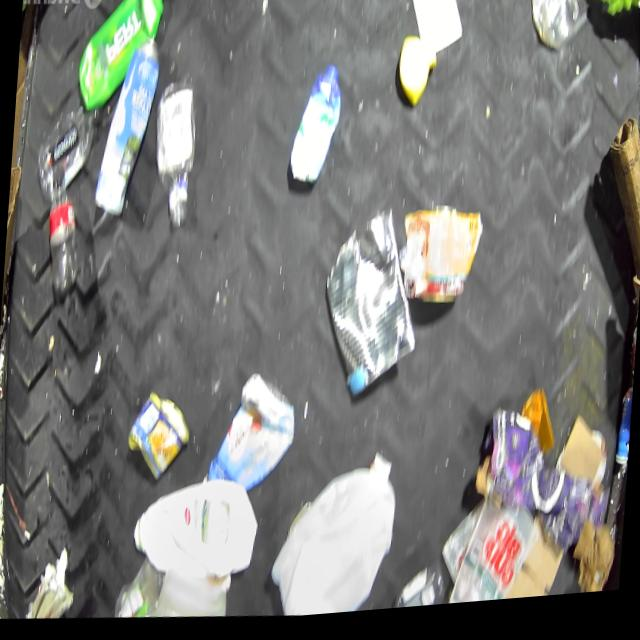can: (314, 202, 426, 408), (122, 390, 190, 488)
milk_jug: (267, 445, 398, 623), (128, 467, 258, 597)
plastic_bottle: (37, 157, 84, 304), (35, 97, 93, 200)
